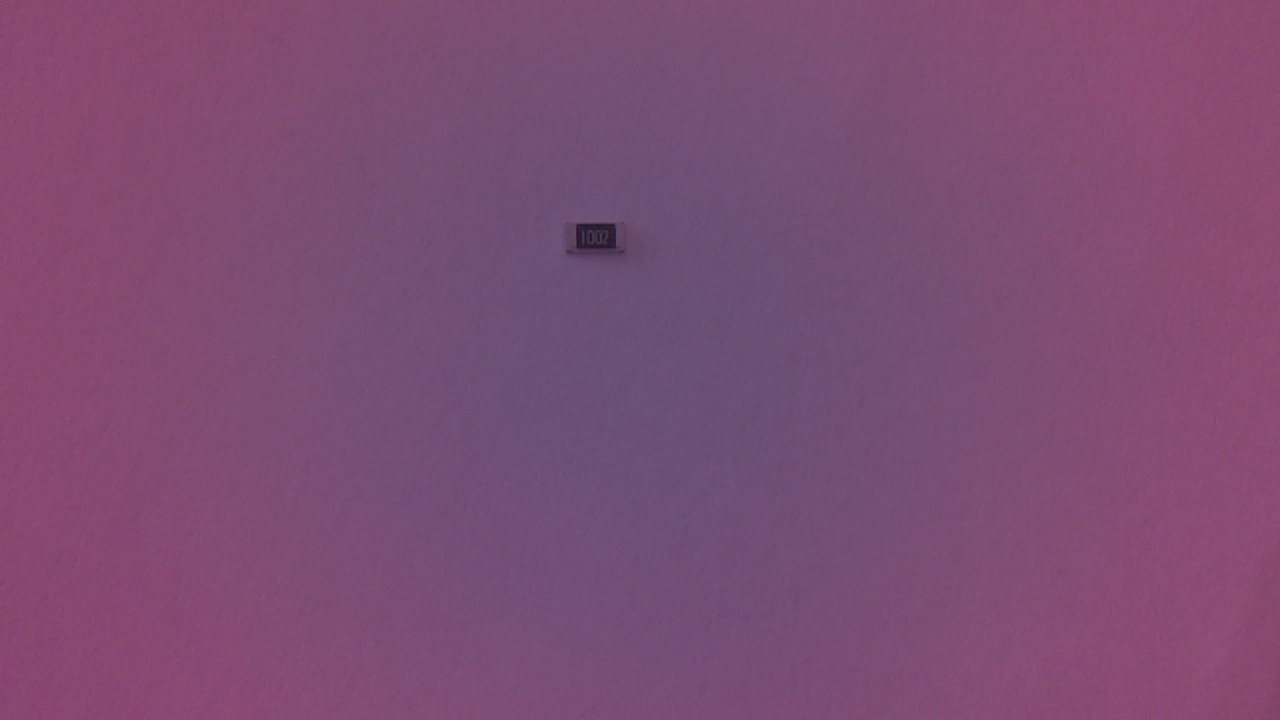Resistor: (566, 222, 637, 264)
